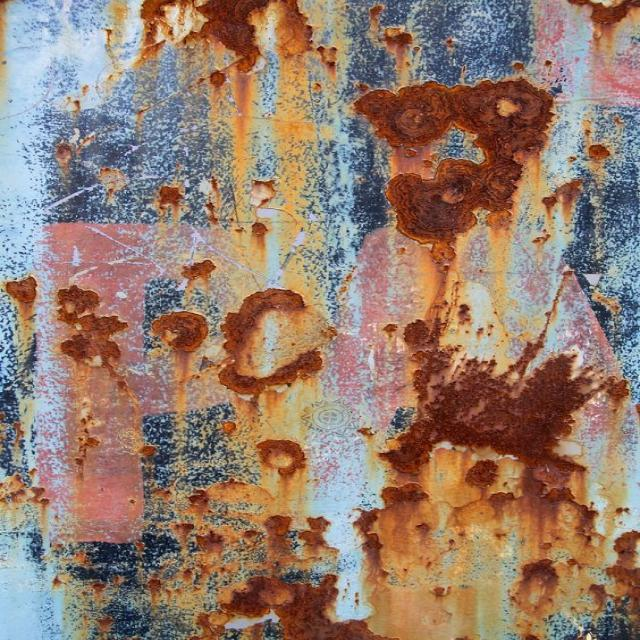Pitting Corrosion: (352, 62, 629, 584), (141, 0, 311, 89), (199, 575, 379, 639), (218, 289, 321, 397), (57, 286, 126, 374), (532, 179, 581, 247), (510, 555, 559, 622), (567, 0, 639, 39), (606, 531, 639, 607), (256, 439, 304, 476), (378, 27, 413, 70), (5, 278, 36, 314), (155, 186, 182, 209), (587, 144, 609, 164), (251, 222, 269, 236)
